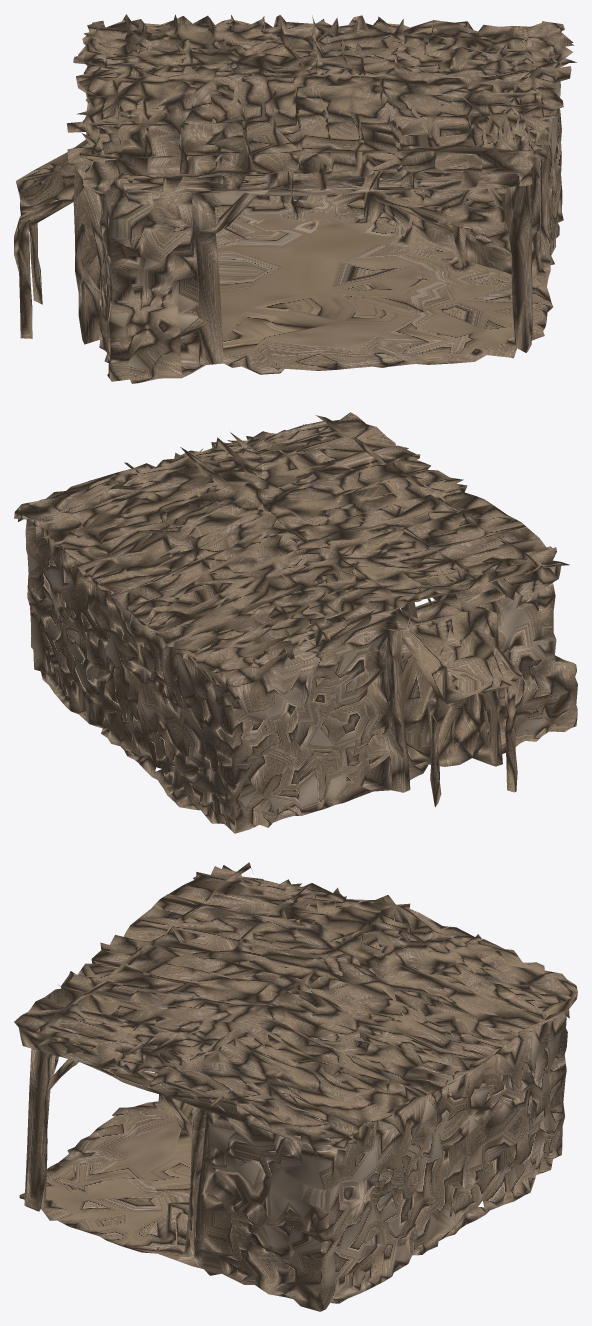
Rendered from nativity-stone-stall.glb.
3 views of the same model, one above another, from view 1: azimuth 30°, elevation 25°; view 2: azimuth 150°, elevation 25°; view 3: azimuth 270°, elevation 25° (orthographic). The views are drawn at different scales.
Parts seen in each view (by area): view 1: geometry_0; view 2: geometry_0; view 3: geometry_0.
Part boxes in pixels (x1,y1,x2,y2): geometry_0: (14,14,576,383); geometry_0: (14,412,577,833); geometry_0: (14,862,577,1311).
Size of the model in its own units: 7.73 by 3.02 by 7.2.
1 material, 1 textured.
